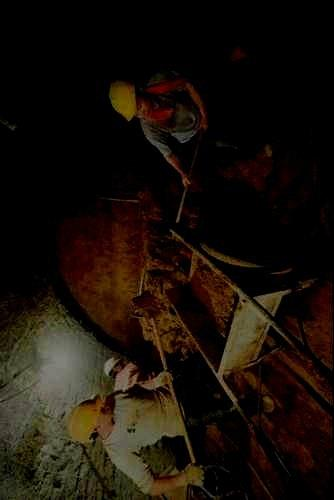helmet: (66, 393, 115, 444), (108, 79, 155, 122), (102, 355, 124, 378)
